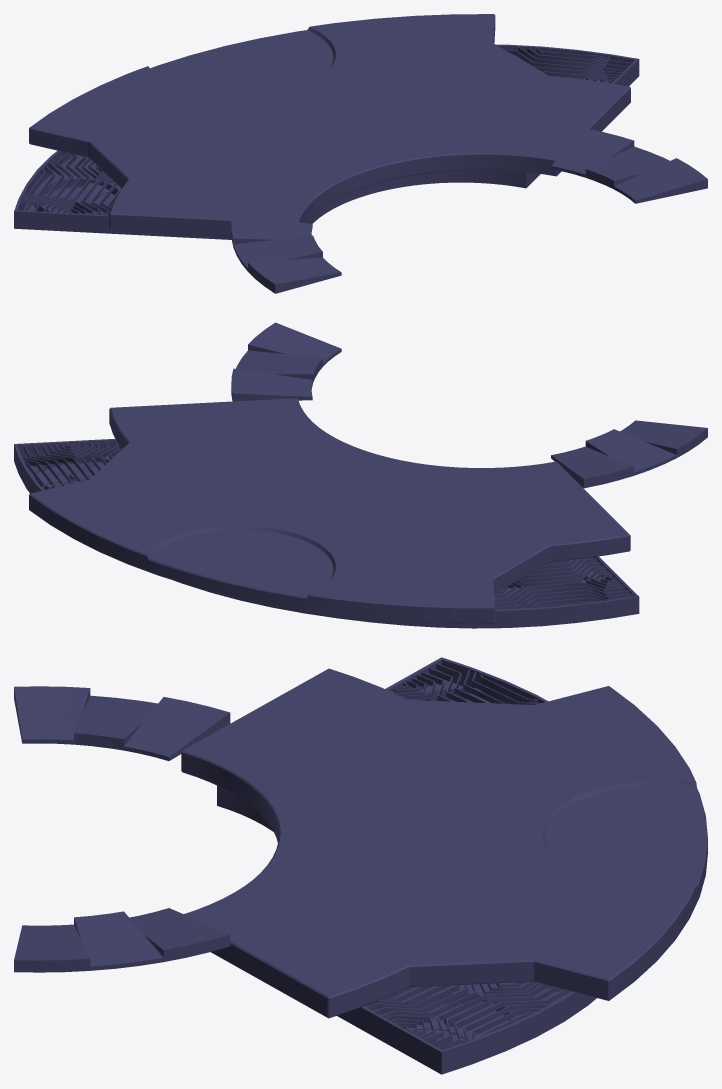
Rendered from Ninja_MainStage.fbx.
3 views of the same model, one above another, from view 1: azimuth 30°, elevation 25°; view 2: azimuth 150°, elevation 25°; view 3: azimuth 270°, elevation 25° (orthographic). The views are drawn at different scales.
Visible parts, largest first — view 1: MainStage, MaintStage_Bottom, FanGrill, FanGrill48, pCylinder23, pCylinder22, pCylinder24, pCylinder20, pCylinder25, pCylinder21, FanR; view 2: MainStage, MaintStage_Bottom, FanGrill, FanGrill48, pCylinder24, pCylinder21, pCylinder20, pCylinder23, pCylinder22, pCylinder25, FanL; view 3: MainStage, MaintStage_Bottom, FanGrill48, pCylinder21, pCylinder22, pCylinder25, pCylinder23, pCylinder24, pCylinder20, FanGrill, FanL.
Part boxes in pixels (left/top/right/bottom): MainStage: left=29, top=14, right=630, bottom=236; MaintStage_Bottom: left=14, top=44, right=639, bottom=239; FanGrill: left=21, top=152, right=121, bottom=215; FanGrill48: left=506, top=47, right=631, bottom=83; pCylinder23: left=614, top=158, right=707, bottom=203; pCylinder22: left=248, top=257, right=341, bottom=293; pCylinder24: left=551, top=128, right=634, bottom=176; pCylinder20: left=233, top=235, right=322, bottom=271; pCylinder25: left=585, top=146, right=669, bottom=186; pCylinder21: left=231, top=213, right=312, bottom=245; FanR: left=34, top=177, right=119, bottom=214; MainStage: left=29, top=398, right=630, bottom=623; MaintStage_Bottom: left=14, top=438, right=639, bottom=628; FanGrill: left=494, top=557, right=632, bottom=609; FanGrill48: left=22, top=440, right=121, bottom=489; pCylinder24: left=231, top=368, right=312, bottom=401; pCylinder21: left=551, top=446, right=634, bottom=488; pCylinder20: left=585, top=429, right=676, bottom=475; pCylinder23: left=248, top=322, right=340, bottom=366; pCylinder22: left=620, top=420, right=707, bottom=457; pCylinder25: left=236, top=350, right=322, bottom=382; FanL: left=34, top=454, right=109, bottom=489; MainStage: left=181, top=668, right=707, bottom=1018; MaintStage_Bottom: left=217, top=657, right=596, bottom=1074; FanGrill48: left=364, top=981, right=570, bottom=1050; pCylinder21: left=124, top=697, right=230, bottom=760; pCylinder22: left=14, top=686, right=90, bottom=744; pCylinder25: left=74, top=911, right=163, bottom=970; pCylinder23: left=14, top=924, right=90, bottom=972; pCylinder24: left=129, top=908, right=230, bottom=961; pCylinder20: left=74, top=695, right=157, bottom=750; FanGrill: left=389, top=663, right=541, bottom=704; FanL: left=408, top=991, right=515, bottom=1047.
Size of the model in its own units: 1536 by 97.36 by 1140.
